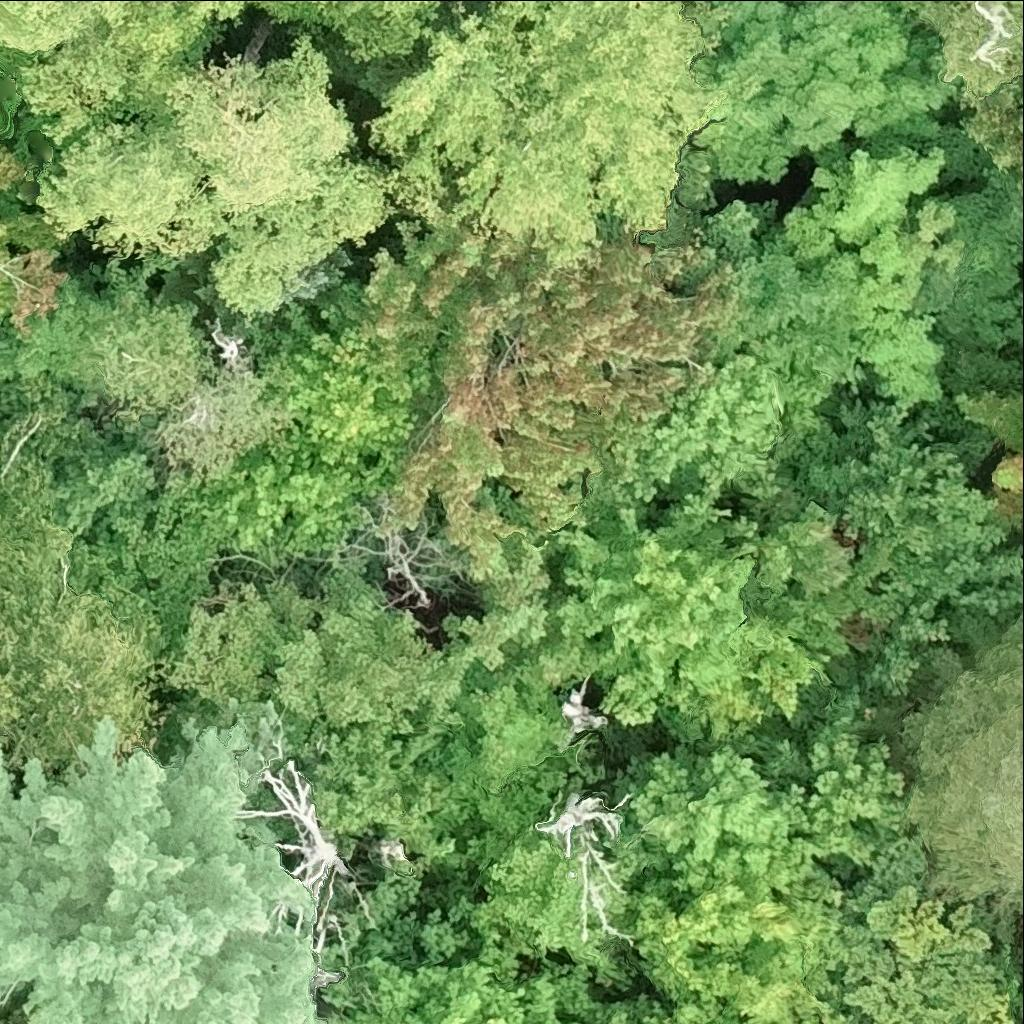crown: (0, 700, 325, 1023), (365, 0, 731, 272), (38, 37, 396, 312), (382, 248, 614, 581), (165, 539, 550, 734), (550, 508, 852, 742), (0, 376, 166, 797), (811, 402, 1023, 699), (775, 145, 967, 411), (694, 0, 966, 182), (517, 211, 745, 423), (612, 736, 910, 891), (596, 354, 828, 530), (86, 298, 284, 480), (365, 218, 544, 401), (840, 837, 1013, 1023), (696, 200, 859, 391), (914, 645, 1023, 914), (235, 759, 351, 952), (350, 941, 593, 1023), (185, 0, 437, 62), (345, 486, 462, 609), (535, 794, 632, 941), (906, 0, 1023, 98), (743, 503, 853, 598), (677, 934, 768, 1023), (958, 391, 1023, 512), (0, 0, 141, 54), (0, 225, 67, 335), (559, 676, 607, 754), (379, 838, 405, 870), (0, 158, 25, 190)
